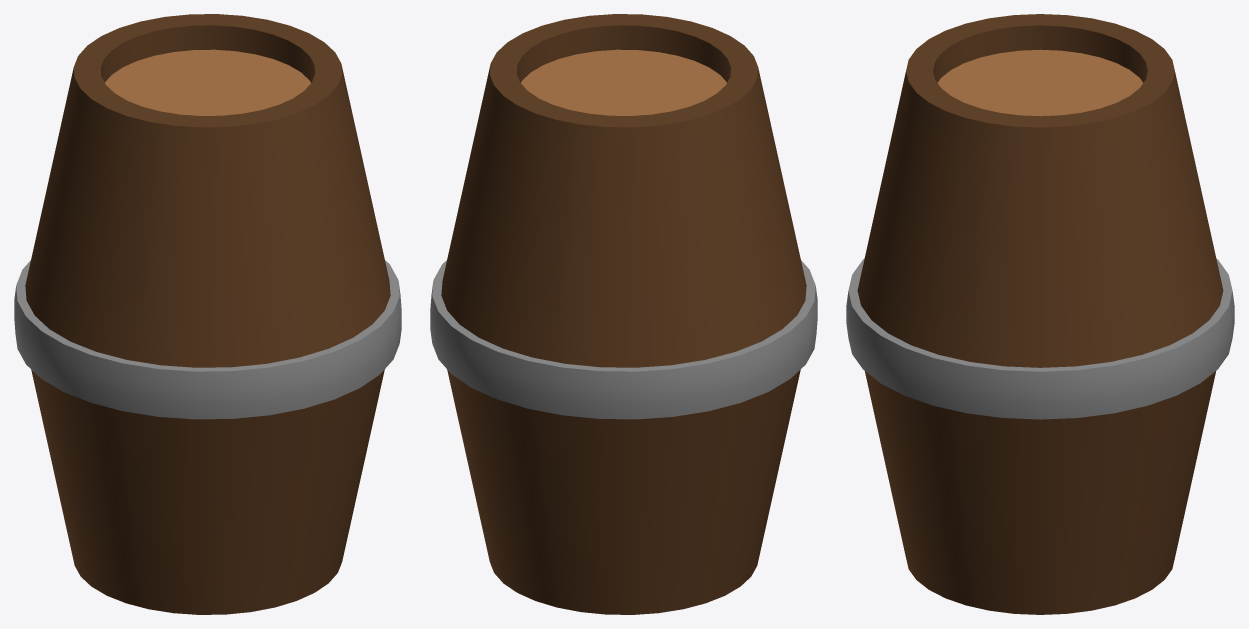
The model's file is Barrel(T).fbx.
3 views of the same model, side by side, from view 1: azimuth 30°, elevation 25°; view 2: azimuth 150°, elevation 25°; view 3: azimuth 270°, elevation 25° (orthographic).
Parts seen in each view (by area): view 1: Barrel; view 2: Barrel; view 3: Barrel.
Part boxes in pixels (x1,y1,x2,y2): Barrel: [14, 14, 401, 614]; Barrel: [430, 14, 817, 614]; Barrel: [846, 14, 1234, 614].
Size of the model in its own units: 289 by 400 by 289.
